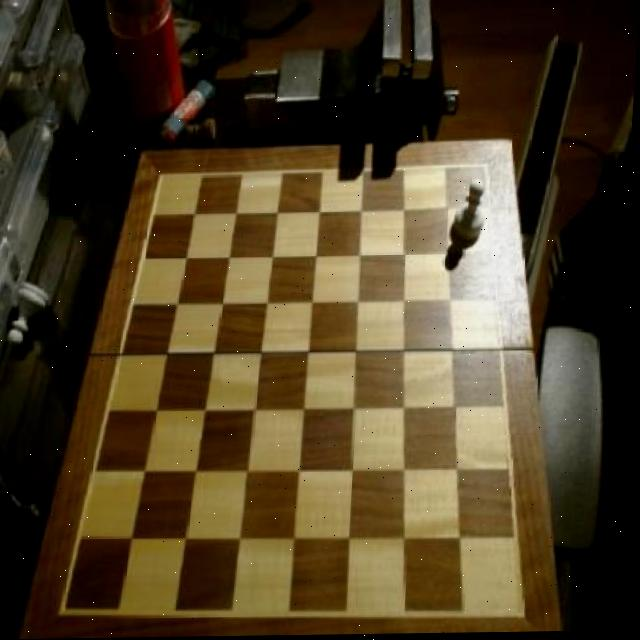white-knight: (454, 169, 494, 257)
